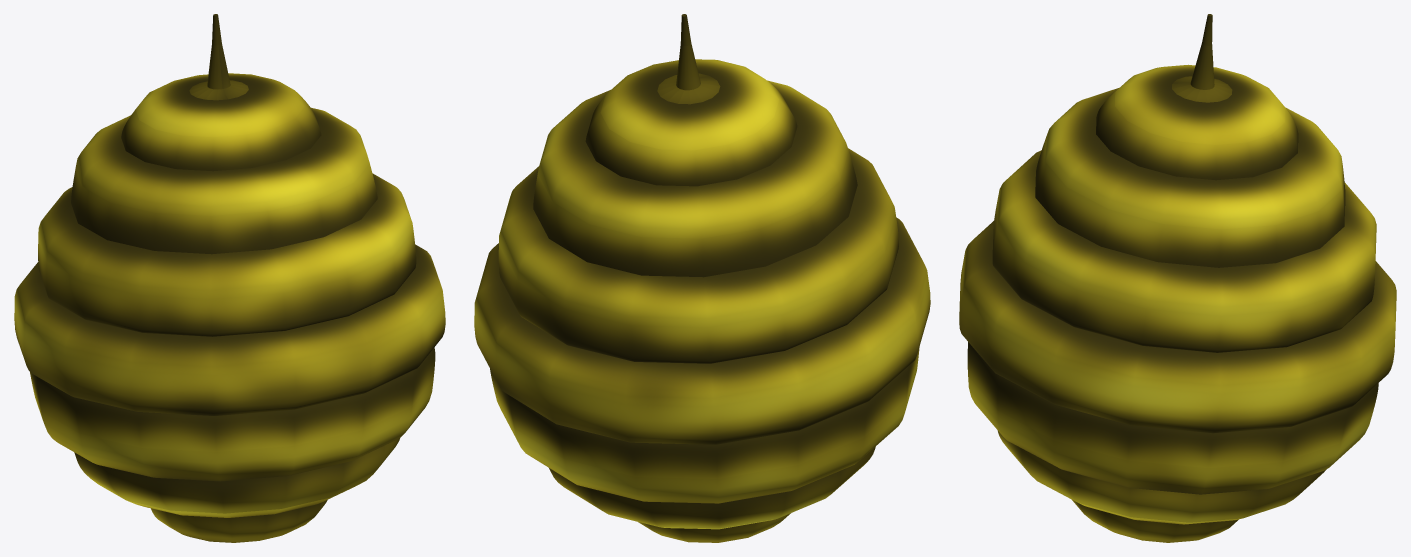
Rendered from Colmena.fbx.
3 renders of one model, left to right at view 1: azimuth 30°, elevation 25°; view 2: azimuth 150°, elevation 25°; view 3: azimuth 270°, elevation 25°, orthographic. The views are drawn at different scales.
Visible parts, largest first — view 1: Colmena; view 2: Colmena; view 3: Colmena.
Part boxes in pixels (bbox=[...]): Colmena: bbox=[14, 14, 445, 542]; Colmena: bbox=[474, 14, 930, 542]; Colmena: bbox=[959, 14, 1396, 542].
Bounding box in the file's own units: 87.43 × 113 × 87.39.
